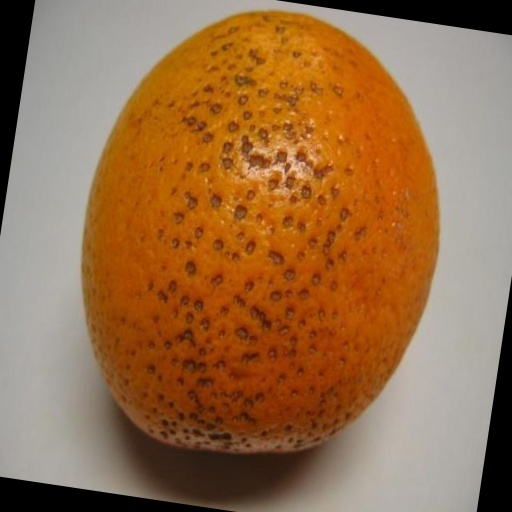fruit: (17, 95, 147, 404)
